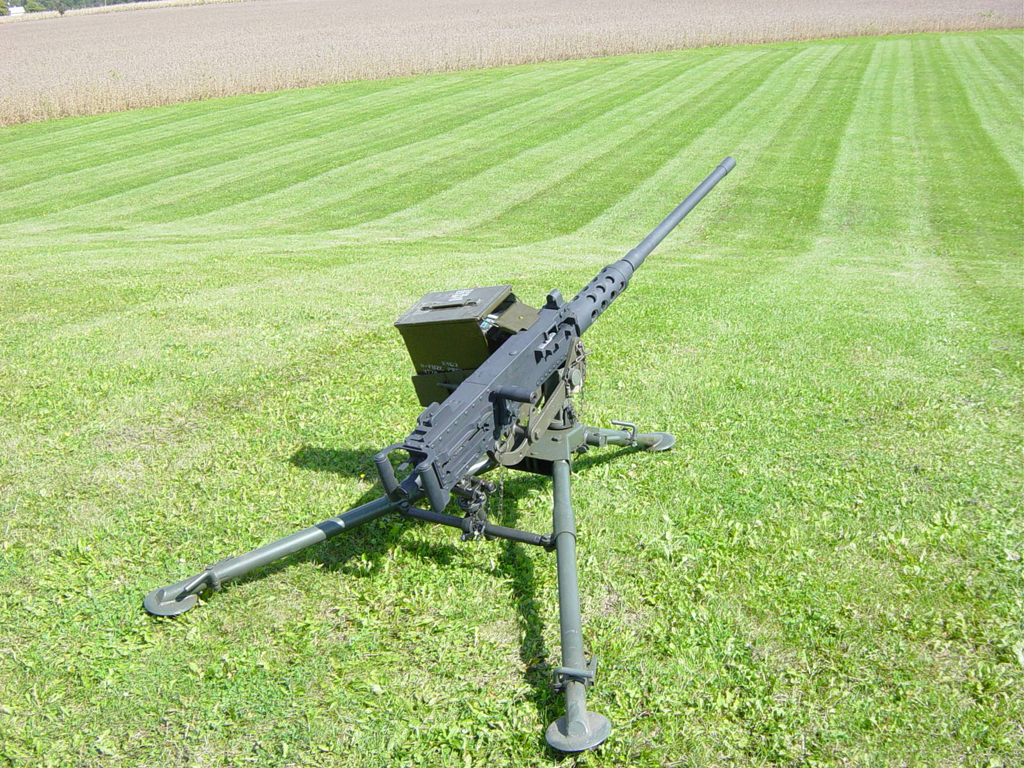rifle: (116, 135, 737, 739)
